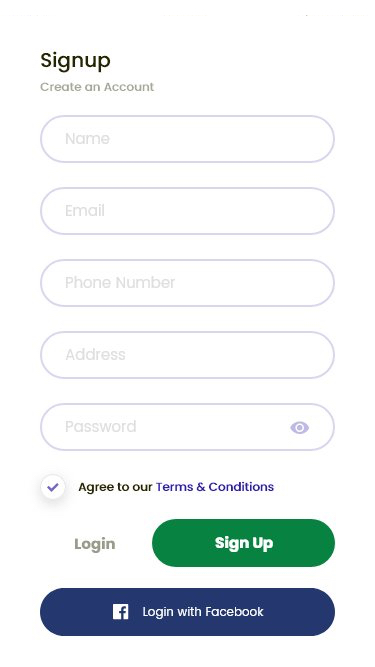CheckedTextView: (40, 473, 275, 500)
EditText: (40, 115, 336, 164), (40, 187, 336, 236), (40, 259, 336, 308), (40, 331, 336, 380), (40, 403, 336, 452)
Icon: (290, 422, 310, 435)
Text: (79, 482, 275, 496), (41, 51, 112, 74), (65, 276, 175, 289), (40, 83, 156, 93), (66, 420, 136, 432), (67, 348, 127, 361), (75, 536, 117, 554), (66, 133, 110, 146), (66, 204, 105, 217)
TextButton: (40, 588, 336, 636), (152, 519, 336, 567)
